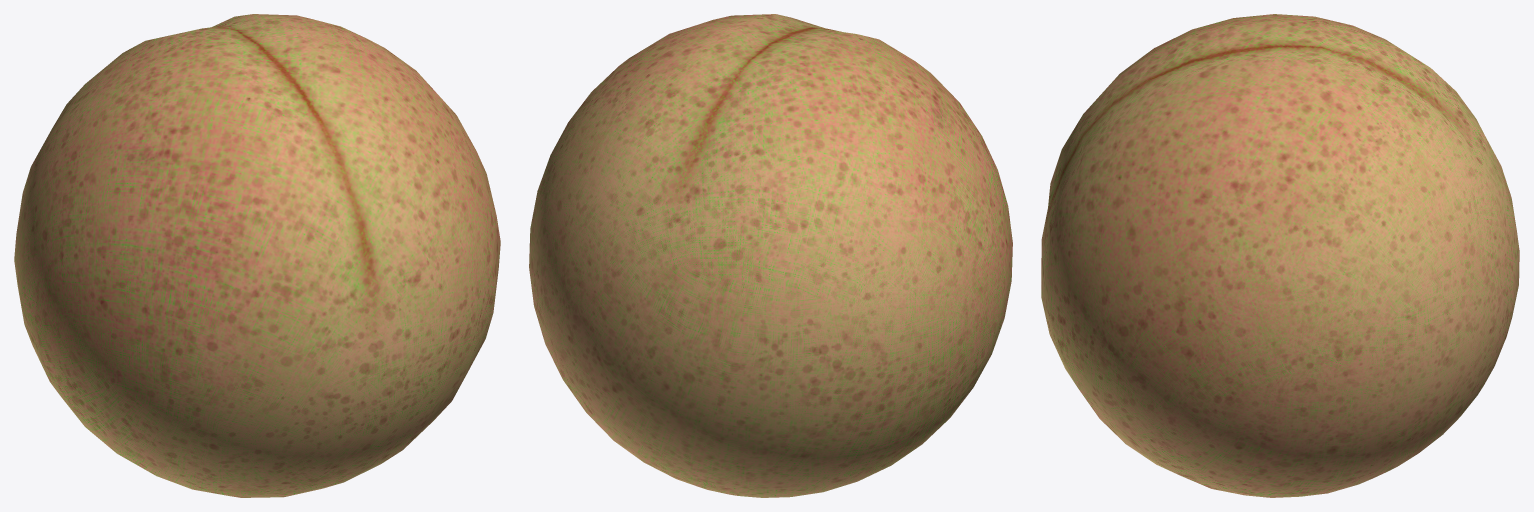
Rendered from Assteroids05.glb.
3 renders of one model, left to right at view 1: azimuth 30°, elevation 25°; view 2: azimuth 150°, elevation 25°; view 3: azimuth 270°, elevation 25°, orthographic.
Parts seen in each view (by area): view 1: Ass05; view 2: Ass05; view 3: Ass05.
Boxes of the visible parts, x1=… form: Ass05: x1=14, y1=14, x2=500, y2=497; Ass05: x1=529, y1=14, x2=1012, y2=497; Ass05: x1=1041, y1=14, x2=1519, y2=497.
Bounding box in the file's own units: 1.99 × 1.97 × 1.97.
1 material, 1 textured.
